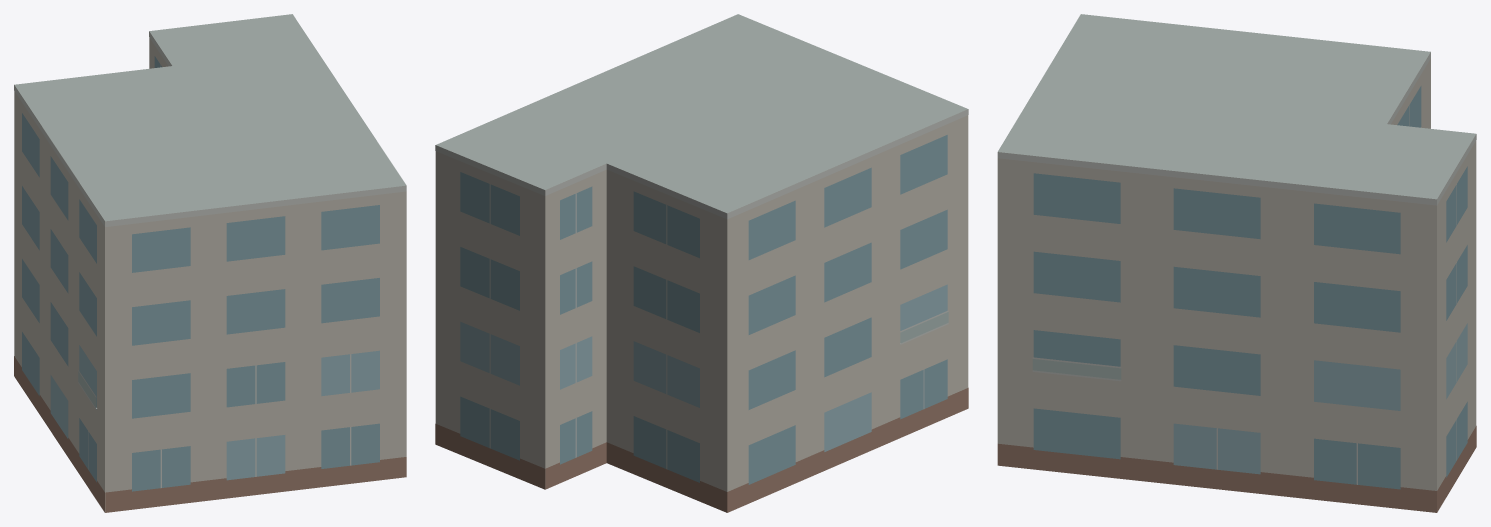
Rendered from residential-27f1c049-429f-4890-b0ad-fffe90f15bb8.glb.
3 renders of one model, left to right at view 1: azimuth 30°, elevation 25°; view 2: azimuth 150°, elevation 25°; view 3: azimuth 270°, elevation 25°, orthographic. The views are drawn at different scales.
Parts seen in each view (by area): view 1: residential-27f1c049-429f-4890-b0ad-fffe90f15bb8.tmp; view 2: residential-27f1c049-429f-4890-b0ad-fffe90f15bb8.tmp; view 3: residential-27f1c049-429f-4890-b0ad-fffe90f15bb8.tmp.
Part boxes in pixels (left/top/right/bottom): residential-27f1c049-429f-4890-b0ad-fffe90f15bb8.tmp: left=14, top=14, right=406, bottom=512; residential-27f1c049-429f-4890-b0ad-fffe90f15bb8.tmp: left=435, top=14, right=968, bottom=512; residential-27f1c049-429f-4890-b0ad-fffe90f15bb8.tmp: left=997, top=14, right=1476, bottom=512.
Bounding box in the file's own units: 15.47 × 12.2 × 16.9.
